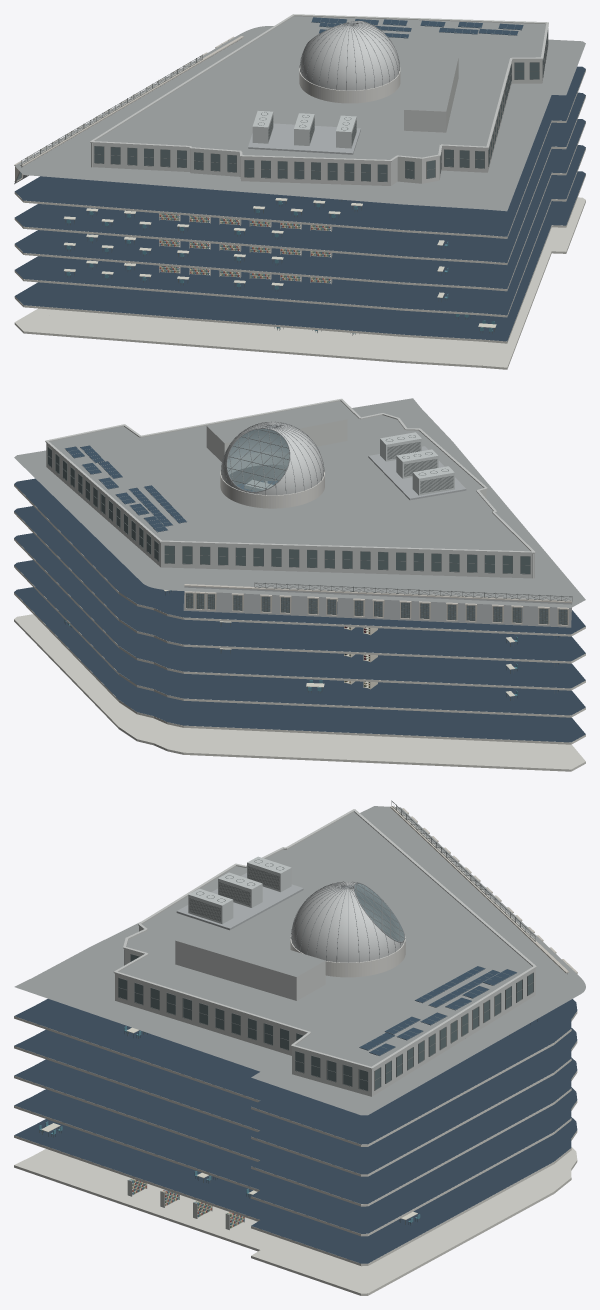
Rendered from lrb-interior-846421d6dadf.glb.
3 views of the same model, one above another, from view 1: azimuth 30°, elevation 25°; view 2: azimuth 150°, elevation 25°; view 3: azimuth 270°, elevation 25° (orthographic). The views are drawn at different scales.
Parts seen in each view (by area): view 1: LRB.001; view 2: LRB.001; view 3: LRB.001.
Part boxes in pixels (<box>): LRB.001: <box>14,14,585,369</box>; LRB.001: <box>14,398,585,771</box>; LRB.001: <box>14,800,585,1295</box>.
Bounding box in the file's own units: 89.08 × 36.89 × 69.59.
